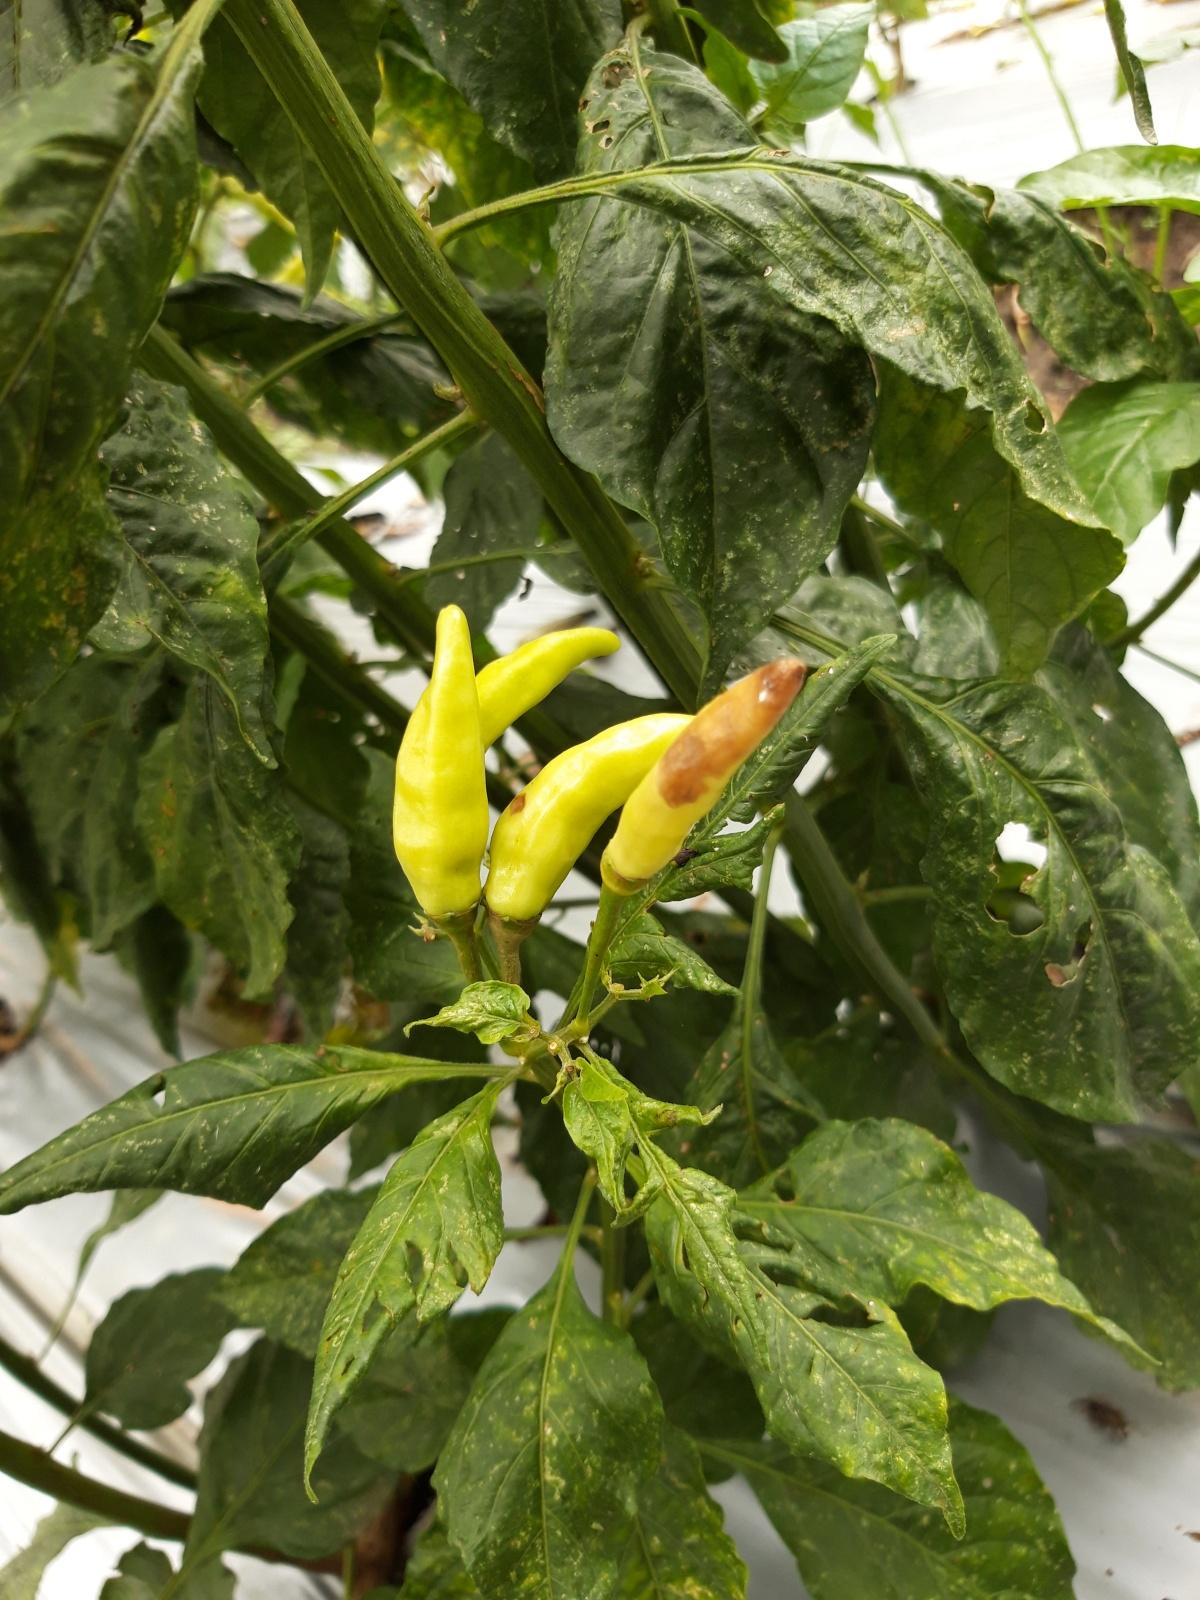cabai_normal: (392, 603, 490, 930)
lalat_buah: (599, 656, 807, 893), (483, 713, 700, 939)
